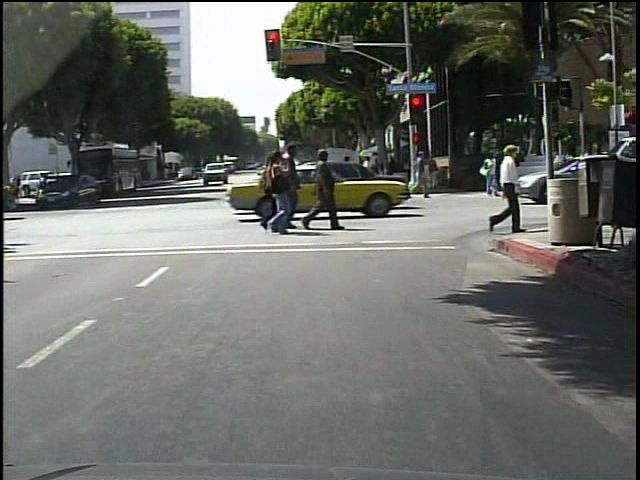person: (484, 139, 527, 238)
